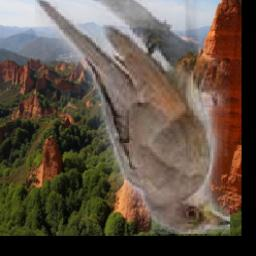Cuckoo: (36, 0, 231, 235)
